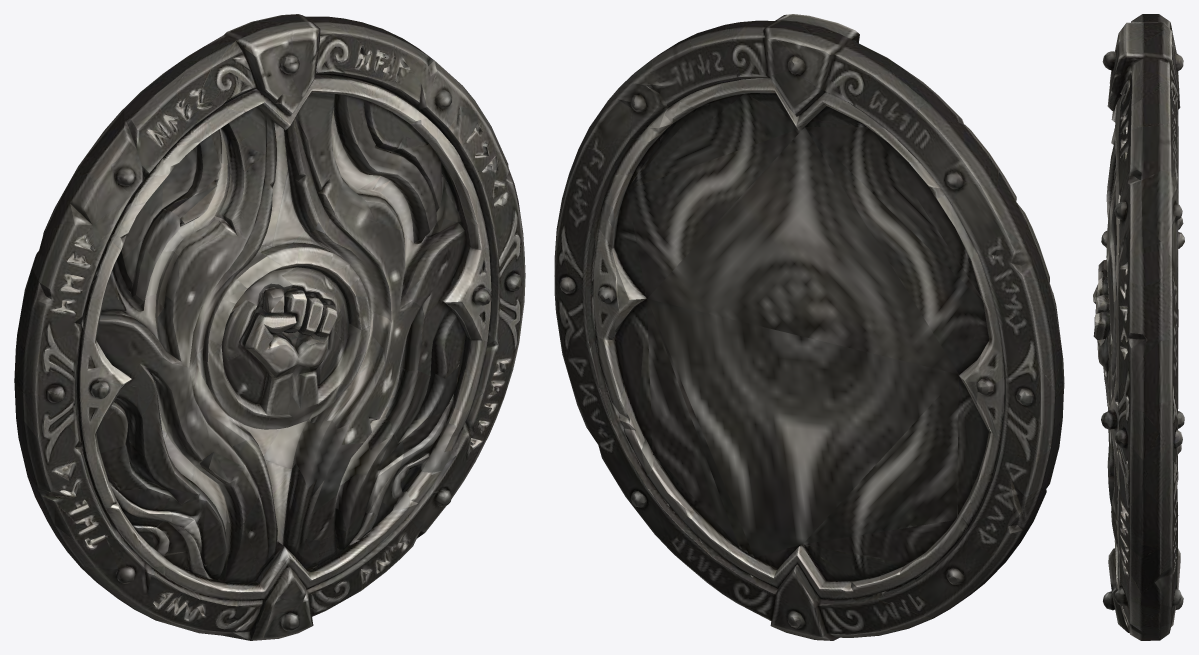
The model's file is escudo_jin.glb.
The picture shows the model from 3 angles, left to right: view 1: azimuth 30°, elevation 25°; view 2: azimuth 150°, elevation 25°; view 3: azimuth 270°, elevation 25°; orthographic projection. The views are drawn at different scales.
Parts seen in each view (by area): view 1: output_unwrapped; view 2: output_unwrapped; view 3: output_unwrapped.
Boxes of the visible parts, <box> form: output_unwrapped: <box>14,14,525,640</box>; output_unwrapped: <box>554,14,1064,640</box>; output_unwrapped: <box>1093,14,1184,640</box>.
Bounding box in the file's own units: 0.7414 × 0.8558 × 0.1212.
1 material, 1 textured.
